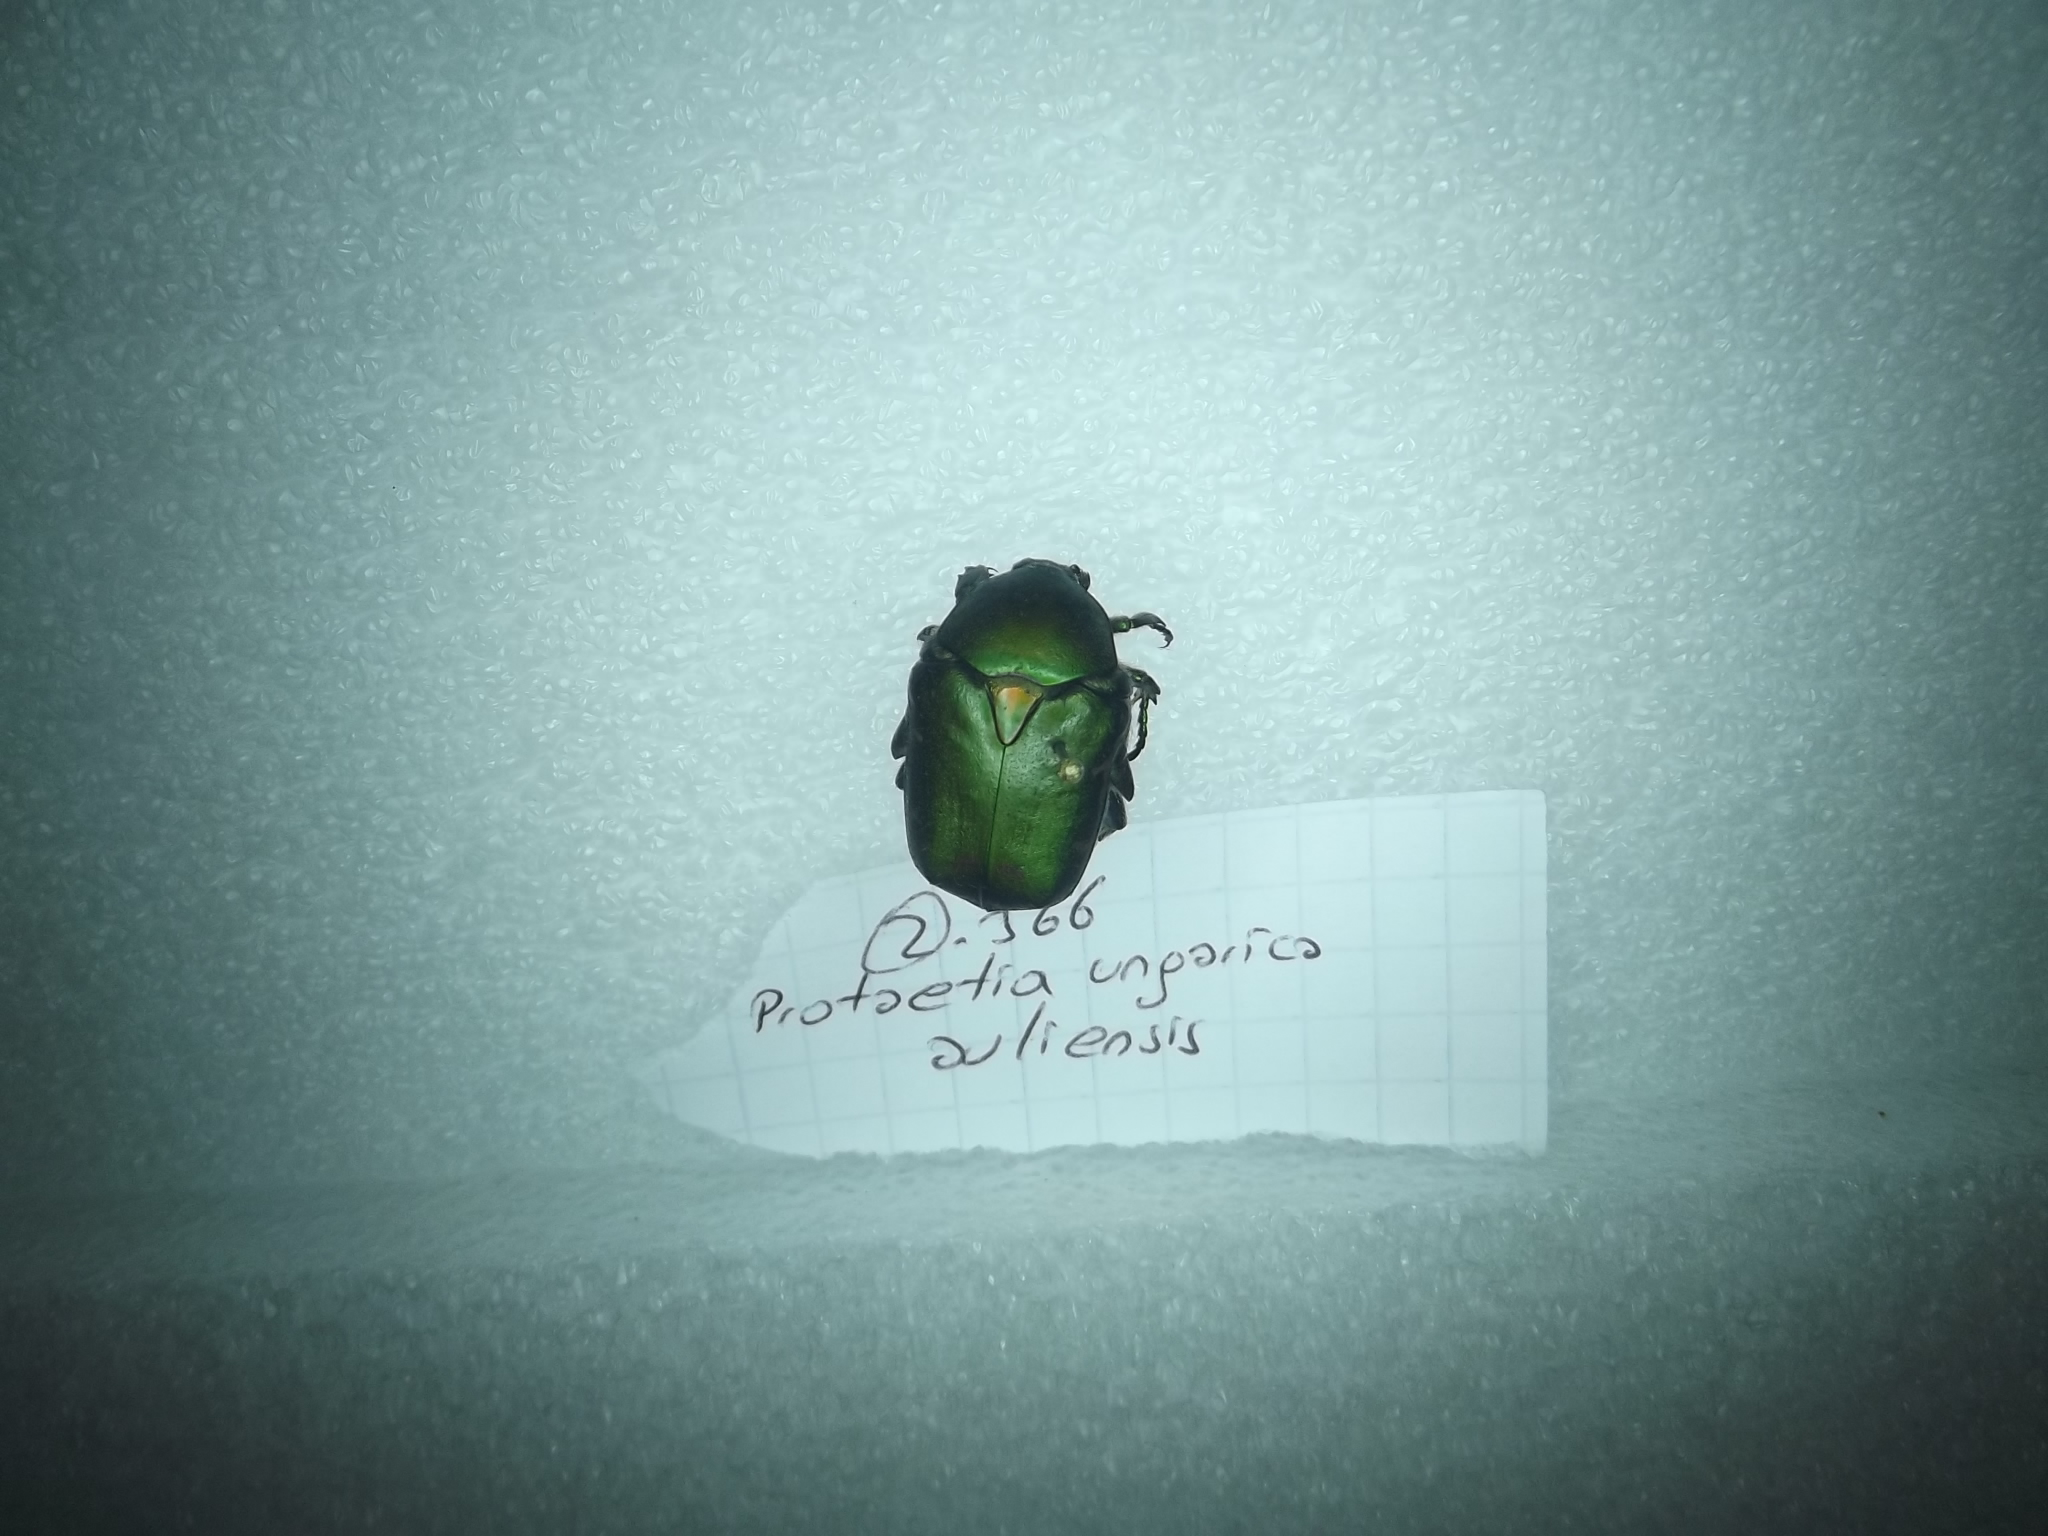Protaetia_ungarica_auliensis: (884, 532, 1192, 916)
